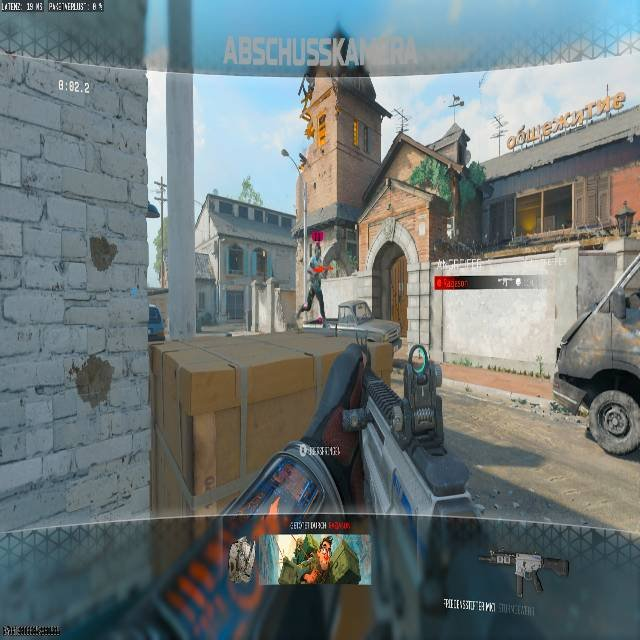head: (310, 256, 319, 265), (622, 200, 629, 207)
player: (296, 255, 331, 324)
